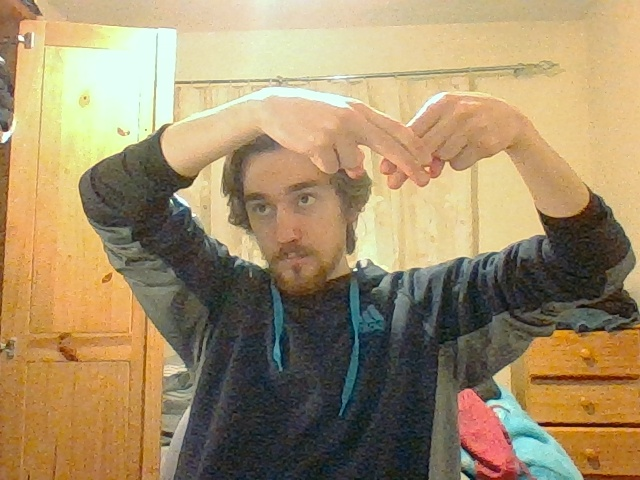father: (356, 94, 460, 189)
